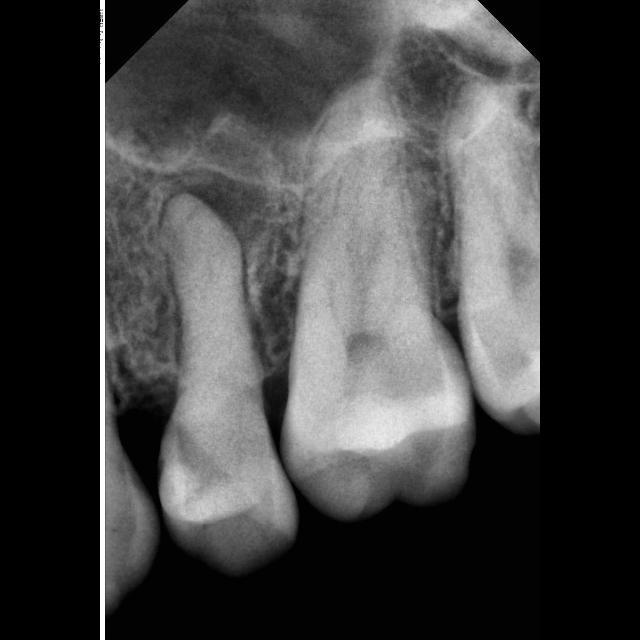tooth: (282, 74, 470, 516), (159, 195, 298, 577)
